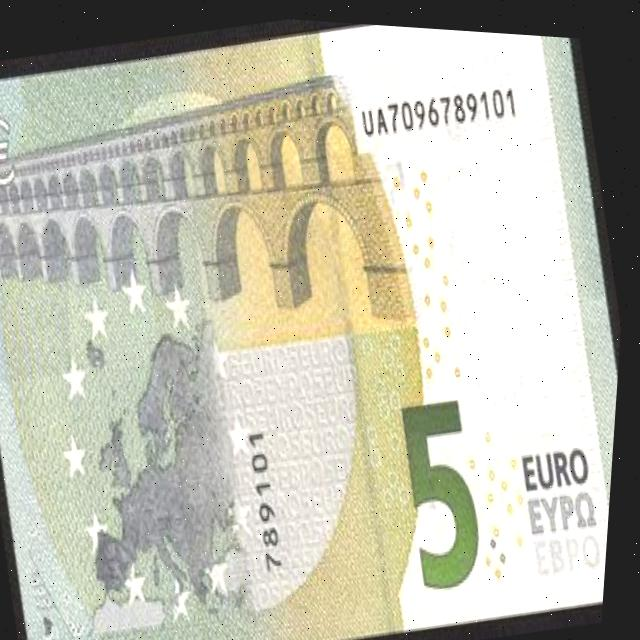banknote: (0, 0, 640, 640), (382, 377, 513, 597)
